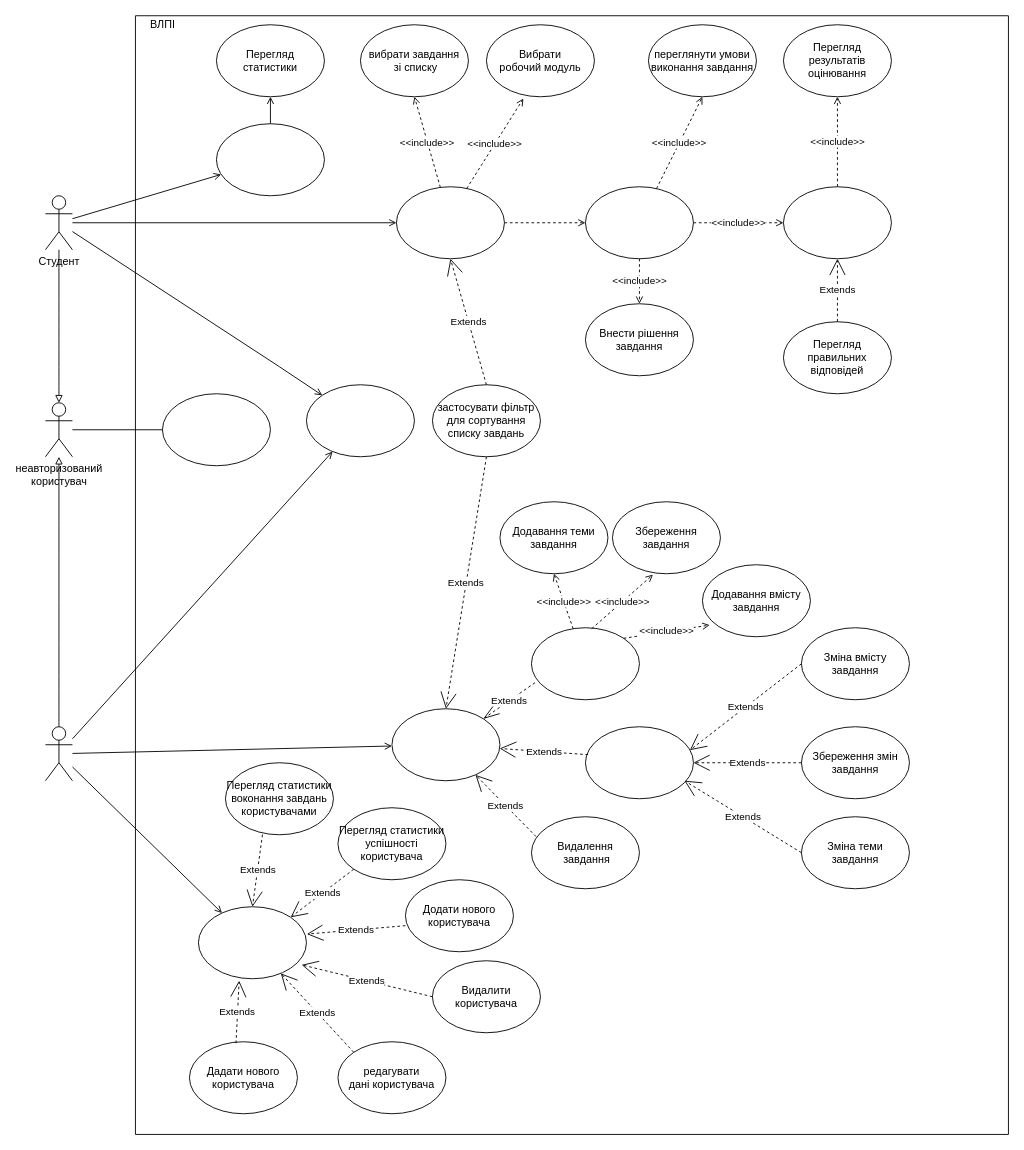
Some shapes in this 1024 by 1150 pixel diagram are drawn without their labels. The centre of each missing label's shape, as x and y in pixels:
Адміністратор: (x=58, y=753)
Аутентифікація: (x=216, y=429)
Вийти з системи: (x=360, y=420)
виконати вибране завдання: (x=639, y=222)
Вхід в особистий кабінет: (x=270, y=159)
Додавання завдання: (x=585, y=663)
збереження виконаного завдання: (x=837, y=222)
Керування завданнями: (x=445, y=744)
Проходження завданнь: (x=450, y=222)
Редагування завдання: (x=639, y=762)
Робота з профілями користувачів: (x=252, y=942)
